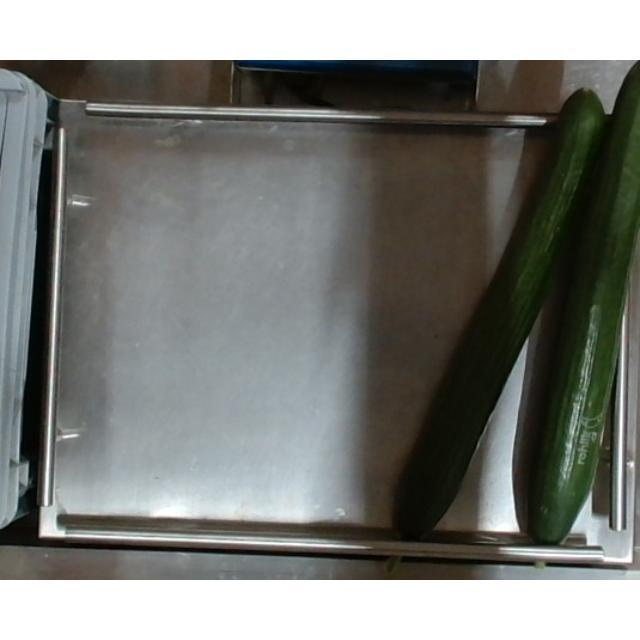cucumber: (378, 88, 602, 572), (520, 61, 640, 546)
